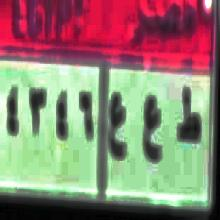3: (26, 81, 46, 142)
4: (3, 87, 21, 141), (54, 86, 68, 148)
6: (78, 90, 96, 148)
Taa: (172, 81, 202, 158)
ain: (104, 89, 127, 170), (140, 91, 163, 168)
